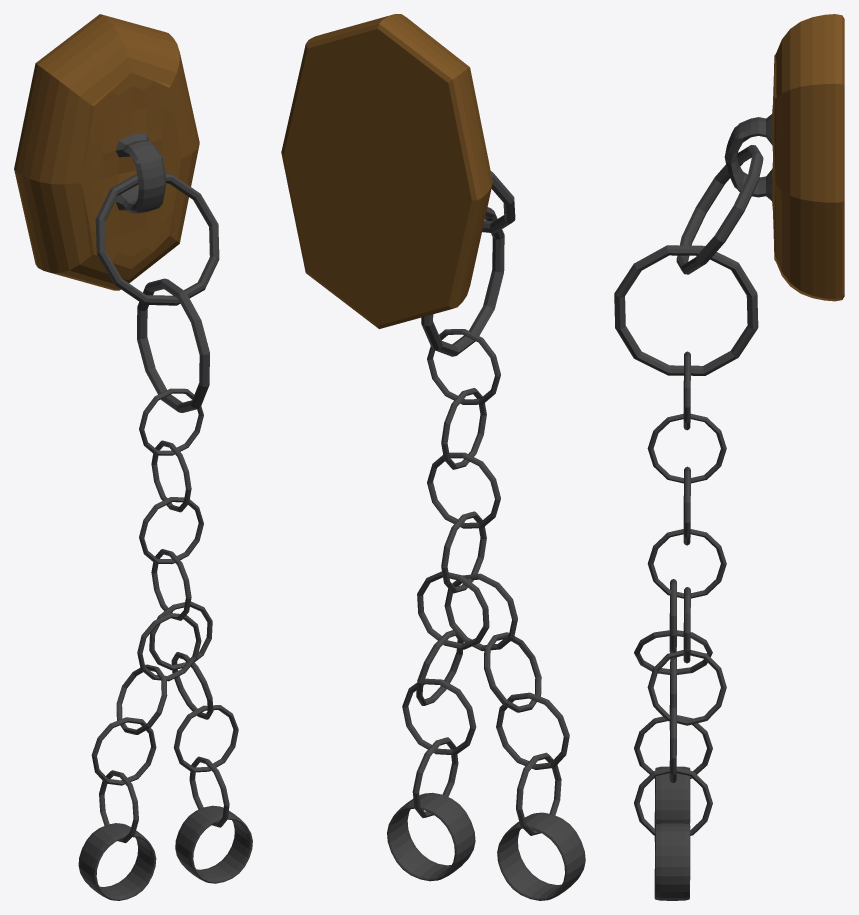
File: Wall_Chain_4_Arina.fbx
3 views of the same model, side by side, from view 1: azimuth 30°, elevation 25°; view 2: azimuth 150°, elevation 25°; view 3: azimuth 270°, elevation 25° (orthographic). The views are drawn at different scales.
Parts seen in each view (by area): view 1: Cube; view 2: Cube; view 3: Cube.
Part boxes in pixels (bbox=[...]): Cube: bbox=[14, 14, 252, 900]; Cube: bbox=[281, 14, 585, 900]; Cube: bbox=[614, 14, 844, 900].
Size of the model in its own units: 105 by 448 by 108.
